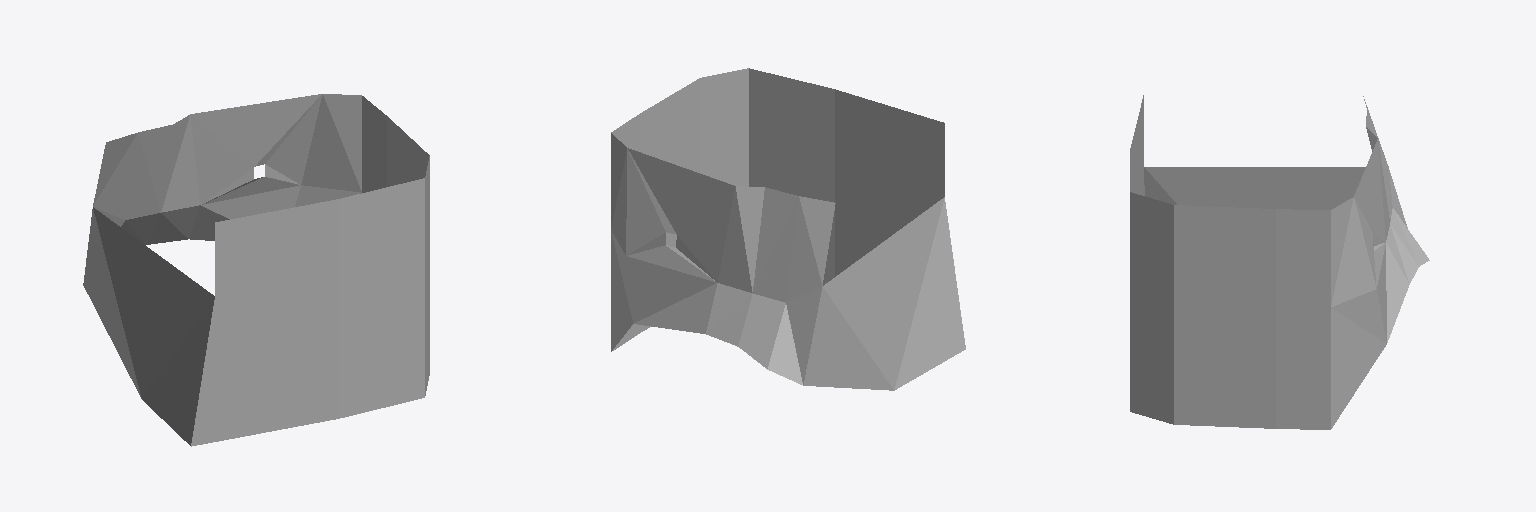
Rendered from canyon_walls.obj.
3 renders of one model, left to right at view 1: azimuth 30°, elevation 25°; view 2: azimuth 150°, elevation 25°; view 3: azimuth 270°, elevation 25°, orthographic.
Parts seen in each view (by area): view 1: canyon.walls_Cube.004; view 2: canyon.walls_Cube.004; view 3: canyon.walls_Cube.004.
Boxes of the visible parts, x1,y1,x2,y2 form: canyon.walls_Cube.004: [83, 94, 429, 446]; canyon.walls_Cube.004: [611, 68, 965, 390]; canyon.walls_Cube.004: [1130, 95, 1429, 429].
Size of the model in its own units: 349 by 279 by 345.